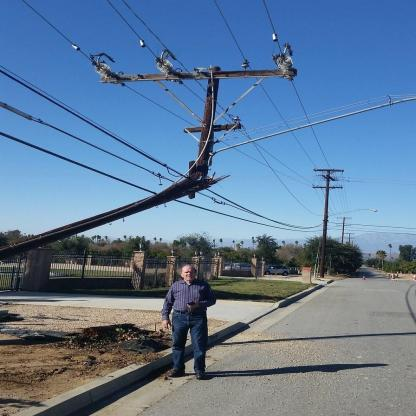Electrical Pole: (82, 45, 313, 191), (10, 150, 229, 264)
